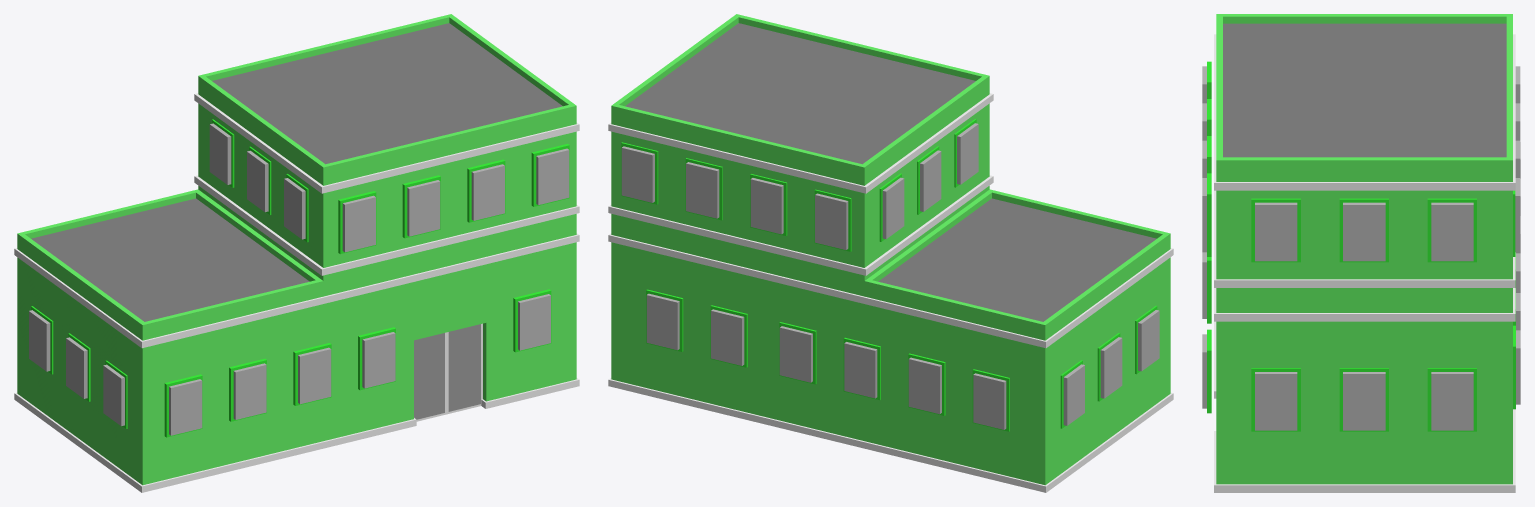
File: SM_House_18_03.FBX
3 renders of one model, left to right at view 1: azimuth 30°, elevation 25°; view 2: azimuth 150°, elevation 25°; view 3: azimuth 270°, elevation 25°, orthographic. The views are drawn at different scales.
Parts seen in each view (by area): view 1: SM_House_18_03; view 2: SM_House_18_03; view 3: SM_House_18_03.
Part boxes in pixels (x1=…): SM_House_18_03: x1=14, y1=14, x2=579, y2=492; SM_House_18_03: x1=608, y1=14, x2=1173, y2=492; SM_House_18_03: x1=1202, y1=14, x2=1520, y2=492.
Bounding box in the file's own units: 12.29 × 7.4 × 6.44.
Materials: 1 (1 with a texture image).
